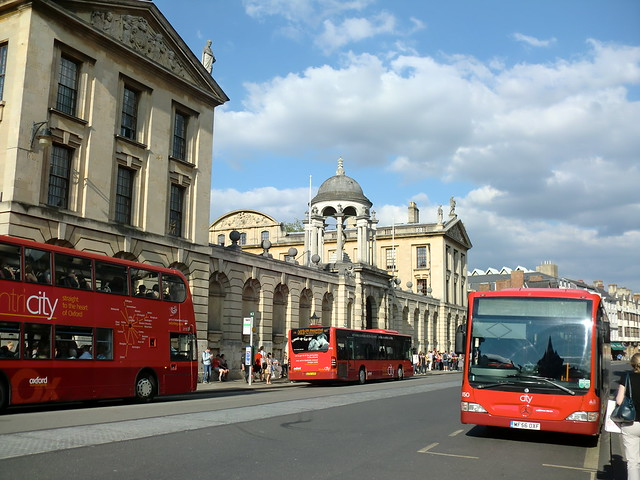bus: (1, 235, 198, 415), (461, 287, 610, 447), (288, 326, 413, 384)
